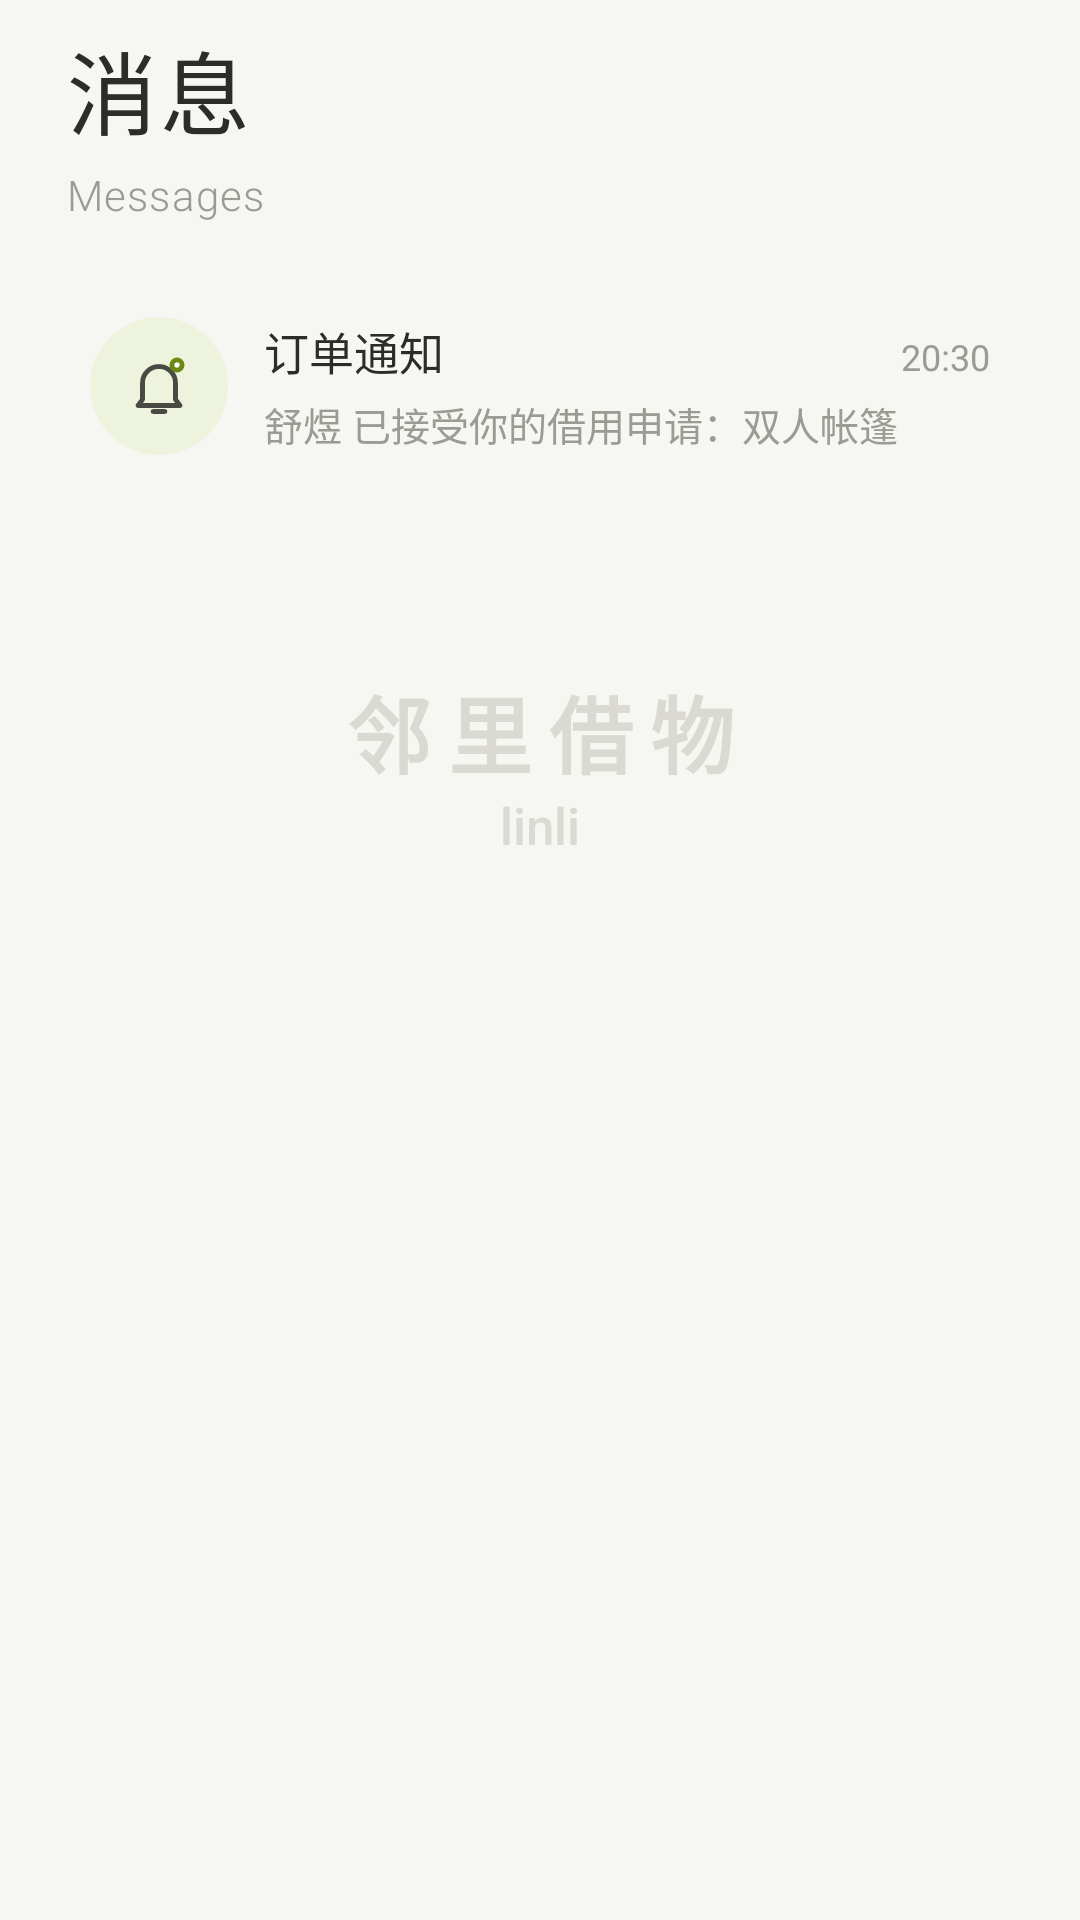

Point at icon controls on the screen. Image size 1080×1920, points as (x,y).
bell: (159,386)
